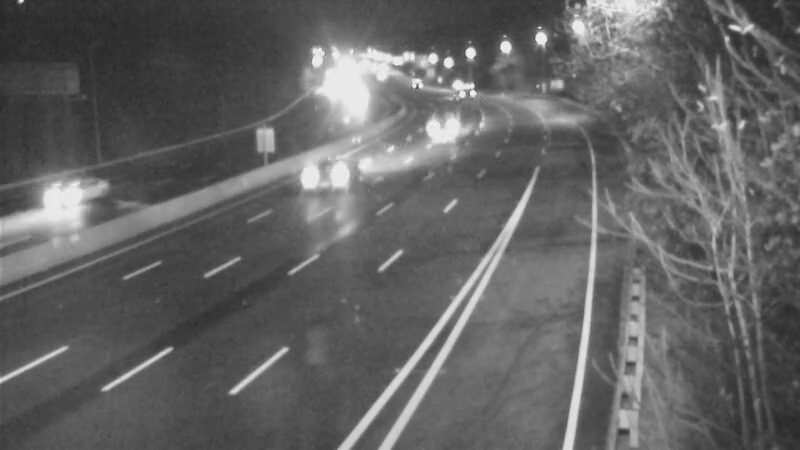vehicle: (278, 139, 358, 219), (29, 157, 109, 237), (443, 67, 493, 117), (419, 101, 469, 151)
